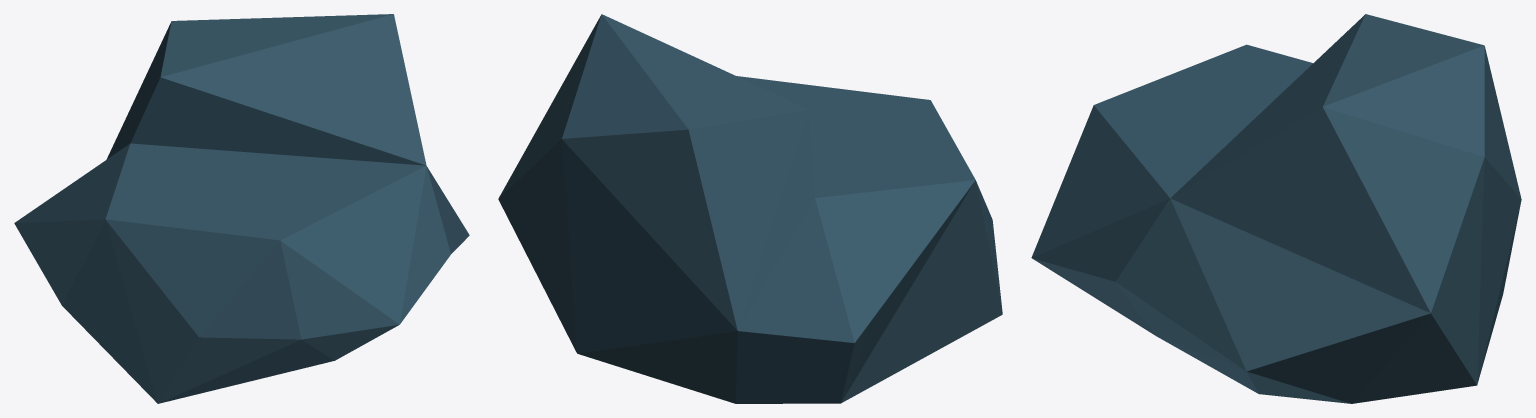
Rendered from Boulder-B14.fbx.
3 renders of one model, left to right at view 1: azimuth 30°, elevation 25°; view 2: azimuth 150°, elevation 25°; view 3: azimuth 270°, elevation 25°, orthographic. The views are drawn at different scales.
Visible parts, largest first — view 1: Boulder-B14; view 2: Boulder-B14; view 3: Boulder-B14.
Part boxes in pixels (bbox=[...]): Boulder-B14: bbox=[14, 14, 469, 403]; Boulder-B14: bbox=[498, 14, 1002, 403]; Boulder-B14: bbox=[1031, 14, 1521, 403].
Bounding box in the file's own units: 120 × 80.52 × 118.
